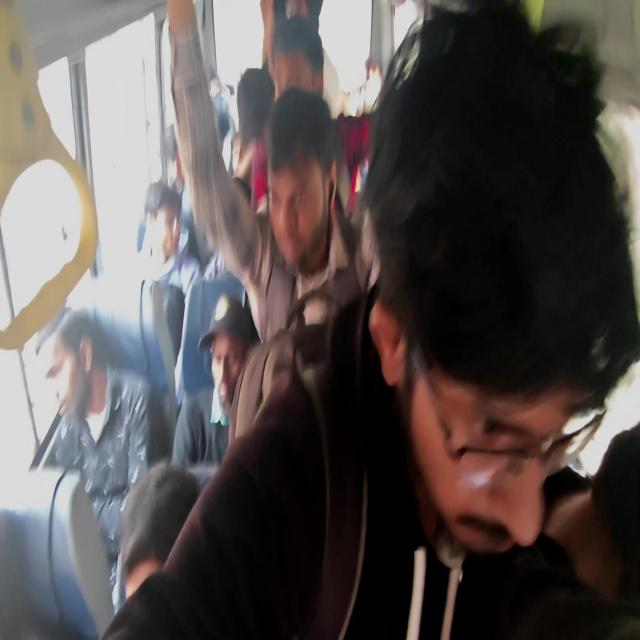person: (379, 46, 601, 562), (122, 497, 198, 622), (262, 114, 322, 268), (40, 324, 112, 434), (208, 312, 262, 422), (233, 69, 284, 160), (159, 122, 204, 202), (281, 32, 323, 113), (150, 186, 186, 271), (354, 57, 385, 114), (200, 67, 227, 102), (279, 0, 326, 19)
